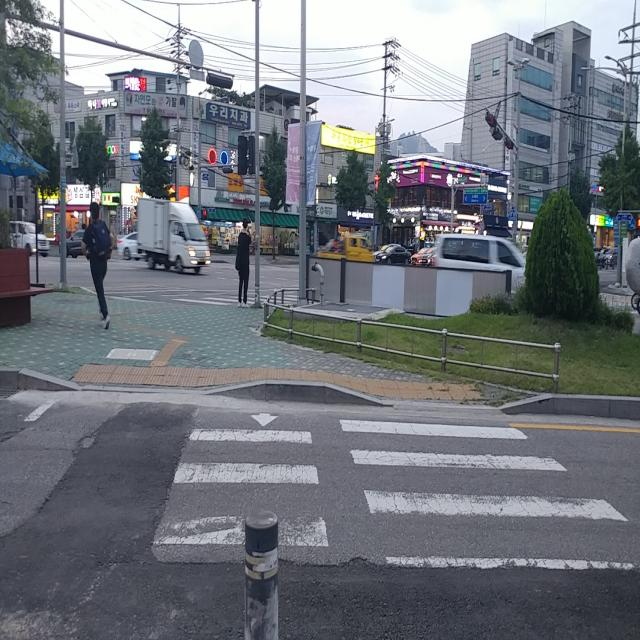횡단보도: (150, 408, 638, 575)
